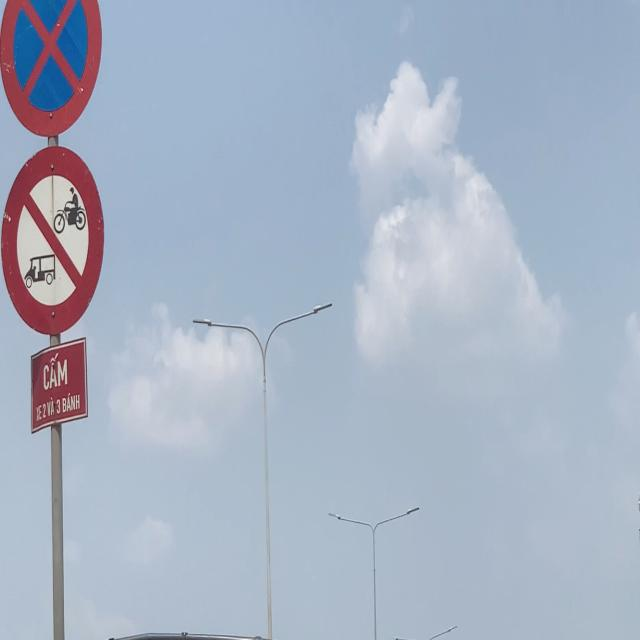Cam dung va do: (0, 0, 109, 151)
